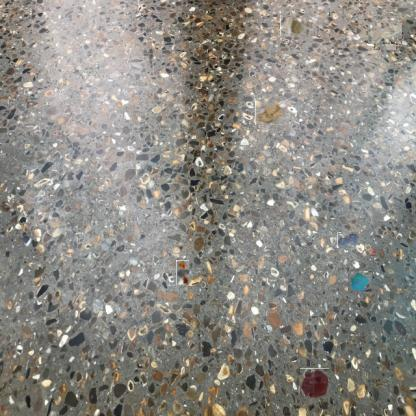dirty: (255, 97, 286, 125), (371, 19, 399, 47), (282, 13, 307, 38), (349, 269, 371, 293), (176, 260, 189, 285)
liquid: (299, 369, 330, 399), (337, 232, 360, 248)
